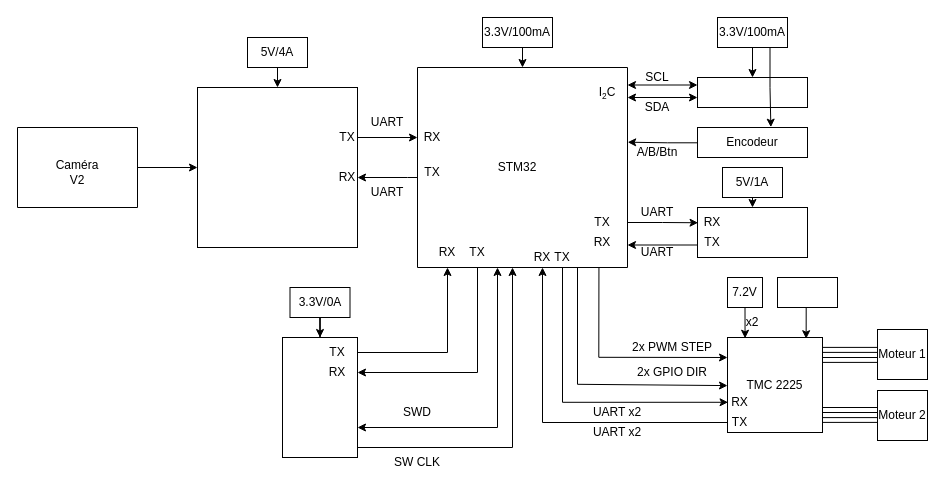
The diagram is 945 pixels wide and 495 high, and some of its shapes have lost their labels. Each missing label, with the box of its shape:
3.3V/30mA: (776, 276, 838, 308)
Afficheur: (696, 76, 808, 108)
LIDAR: (696, 206, 808, 258)
Rpi 4/s (Traitement d'image): (196, 86, 358, 248)
ST-LINK: (282, 336, 358, 458)
